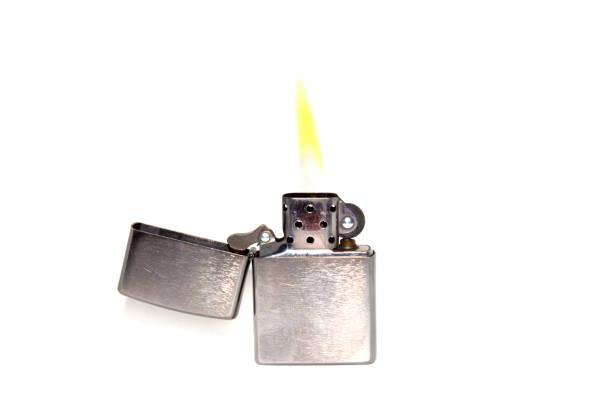Fire: (292, 74, 330, 191)
